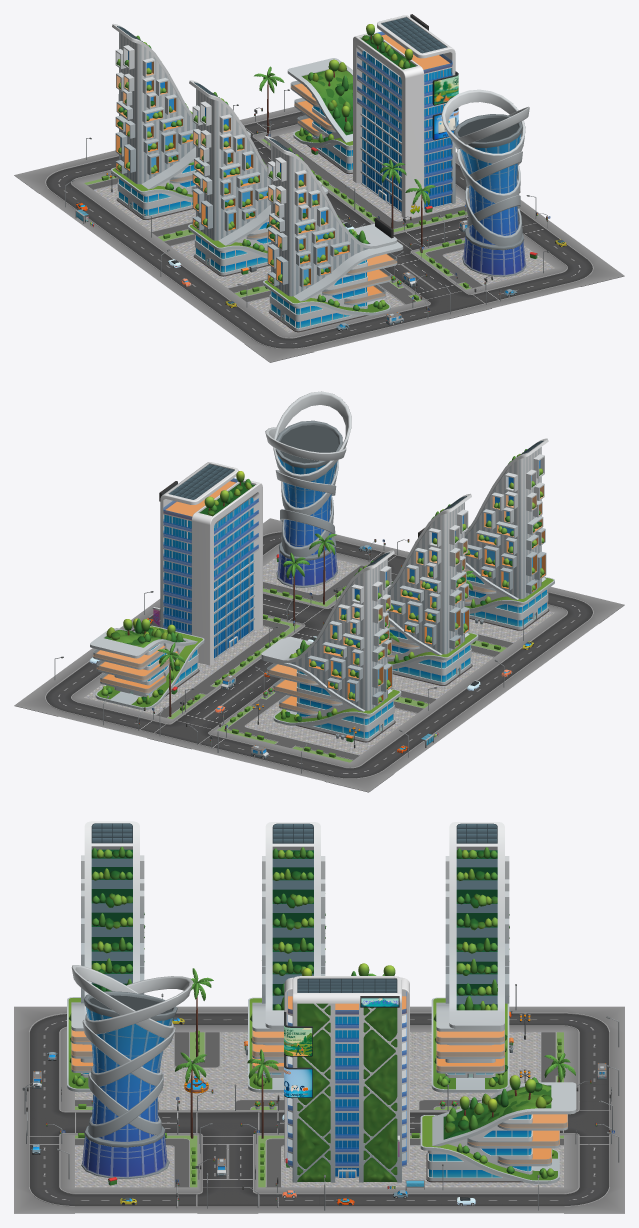
The model's file is cartoon_city.glb.
3 renders of one model, top to bottom at view 1: azimuth 30°, elevation 25°; view 2: azimuth 150°, elevation 25°; view 3: azimuth 270°, elevation 25°, orthographic. The views are drawn at different scales.
Parts seen in each view (by area): view 1: Eco_Building_Grid.005, Eco_Building_Slope.004, Eco_Building_Slope.005, Eco_Building_Slope.001, Regular_Building_TwistedTower_Large.004, Eco_Building_Terrace.008, road_013.020, road_013.036, road_013.018, road_009.008, road_019.005, road_009.231 (+34 smaller); view 2: Eco_Building_Grid.005, Eco_Building_Slope.005, Eco_Building_Slope.001, Eco_Building_Slope.004, Regular_Building_TwistedTower_Large.004, Eco_Building_Terrace.008, road_013.018, road_013.036, road_013.019, road_009.231, road_009.239, road_009.236 (+29 smaller); view 3: Eco_Building_Grid.005, Eco_Building_Slope.005, Regular_Building_TwistedTower_Large.004, Eco_Building_Slope.001, Eco_Building_Terrace.008, Eco_Building_Slope.004, road_009.246, road_022.070, road_013.019, road_013.020, road_019.004, road_009.239 (+47 smaller).
Part boxes in pixels (x1,y1,x2,y2): Eco_Building_Grid.005: [353, 15, 455, 218]; Eco_Building_Slope.004: [263, 136, 403, 332]; Eco_Building_Slope.005: [111, 23, 250, 219]; Eco_Building_Slope.001: [188, 80, 327, 276]; Regular_Building_TwistedTower_Large.004: [441, 89, 529, 276]; Eco_Building_Terrace.008: [287, 58, 352, 173]; road_013.020: [555, 257, 624, 286]; road_013.036: [245, 333, 313, 362]; road_013.018: [14, 164, 83, 193]; road_009.008: [511, 268, 580, 297]; road_019.005: [422, 290, 491, 319]; road_009.231: [219, 314, 288, 343]; Eco_Building_Grid.005: [160, 462, 262, 665]; Eco_Building_Slope.005: [261, 550, 401, 742]; Eco_Building_Slope.001: [338, 493, 478, 685]; Eco_Building_Slope.004: [415, 438, 554, 630]; Regular_Building_TwistedTower_Large.004: [265, 391, 351, 587]; Eco_Building_Terrace.008: [90, 618, 204, 709]; road_013.018: [324, 762, 394, 792]; road_013.036: [555, 594, 624, 623]; road_013.019: [14, 687, 83, 716]; road_009.231: [529, 613, 598, 642]; road_009.239: [280, 752, 349, 781]; road_009.236: [401, 706, 470, 735]; Eco_Building_Grid.005: [284, 963, 409, 1182]; Eco_Building_Slope.005: [431, 822, 509, 1092]; Regular_Building_TwistedTower_Large.004: [71, 965, 192, 1178]; Eco_Building_Slope.001: [248, 822, 326, 1092]; Eco_Building_Terrace.008: [420, 1075, 576, 1183]; Eco_Building_Slope.004: [67, 821, 145, 1091]; road_009.246: [502, 1187, 563, 1213]; road_022.070: [136, 1187, 197, 1213]; road_013.019: [564, 1187, 624, 1213]; road_013.020: [14, 1187, 74, 1213]; road_019.004: [197, 1187, 258, 1213]; road_009.239: [564, 1032, 624, 1058].
Bounding box in the file's own units: 120 × 57.49 × 150.
Materials: 16 (14 with a texture image).
